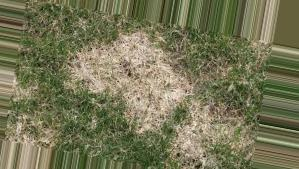patch: (64, 55, 168, 91), (119, 92, 182, 127), (159, 131, 232, 159), (188, 97, 228, 129), (100, 39, 172, 53), (171, 61, 197, 86)
